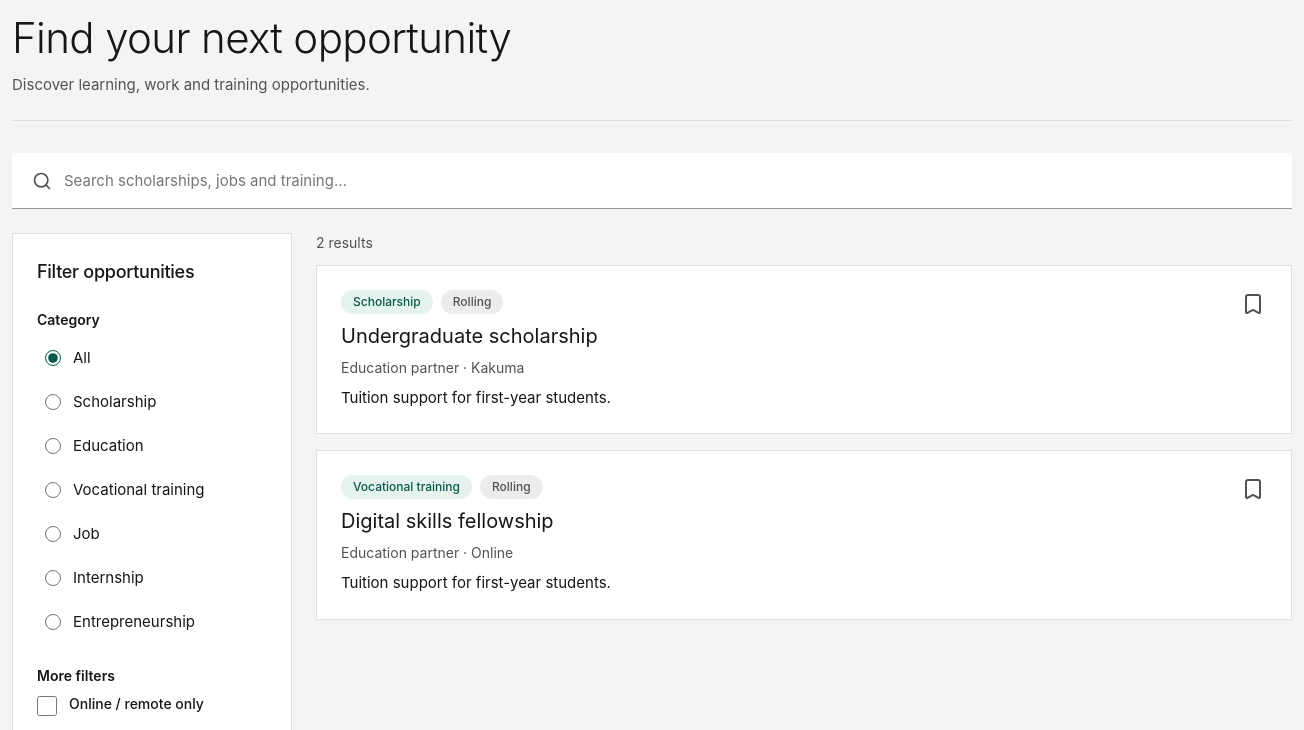
Test: OpportunitiesPage › bookmarks optimistically for members and confirms with a short toast
Click the 1st button named "Save opportunity" at (1253, 304), box [1231,282,1275,326]
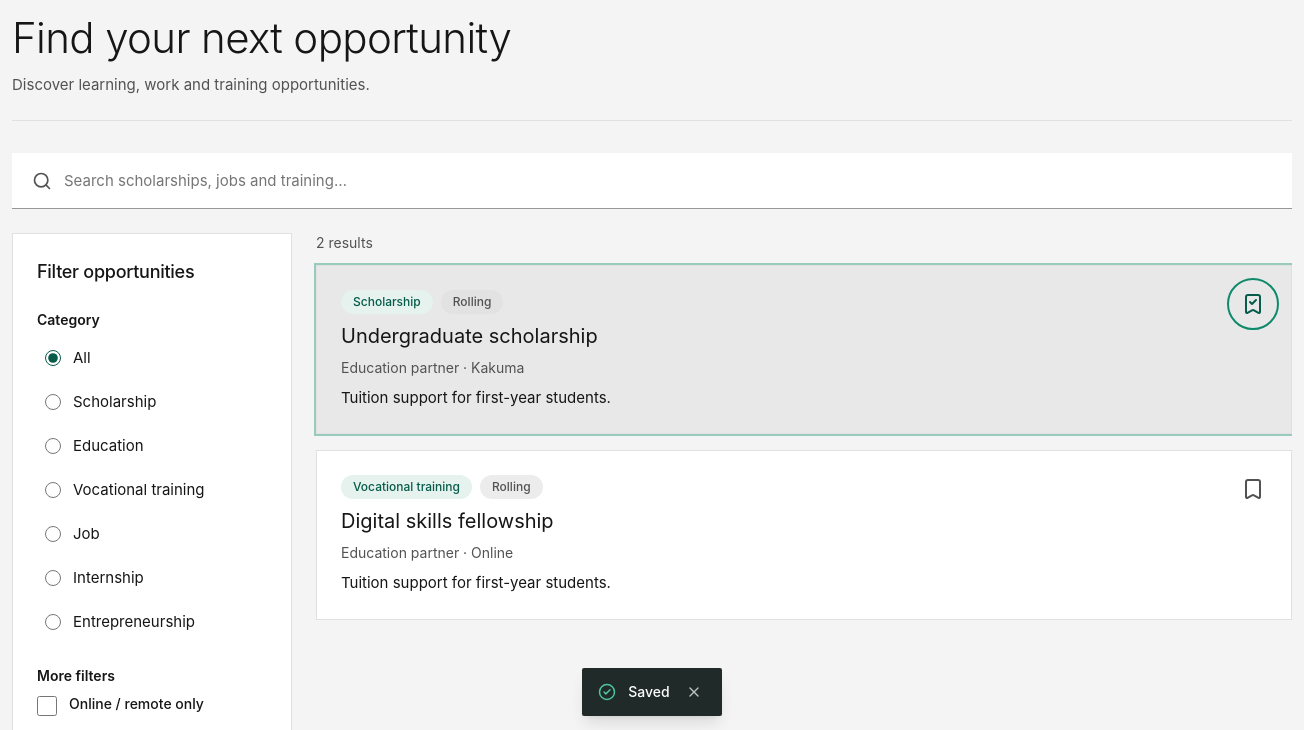
Result: the text "Saved" is shown at [628,682,670,702]
